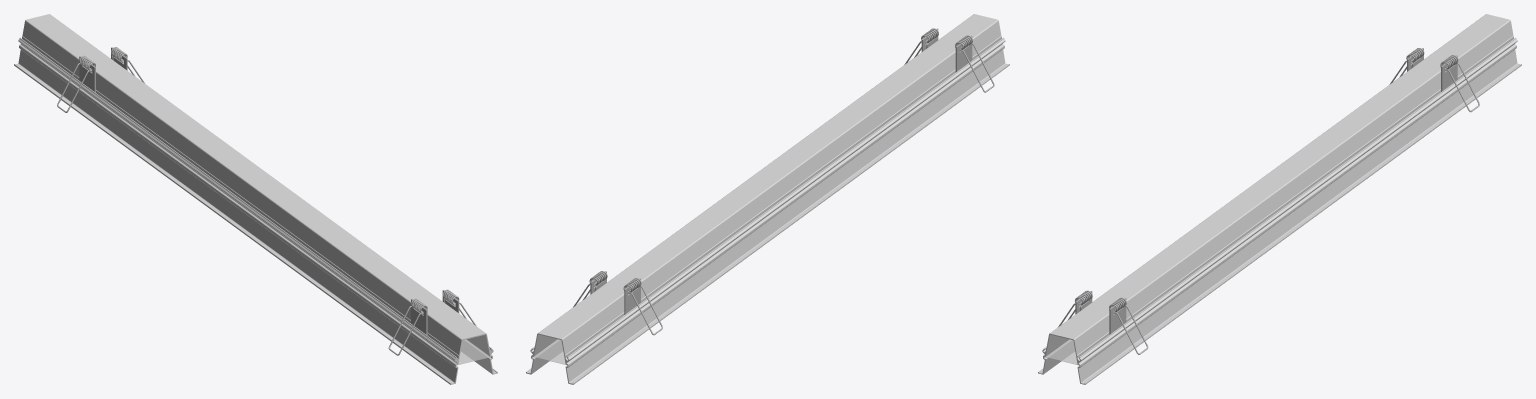
File: Fit30Embutido.glb
The picture shows the model from 3 angles, left to right: view 1: azimuth 30°, elevation 25°; view 2: azimuth 150°, elevation 25°; view 3: azimuth 330°, elevation 25°; orthographic projection.
Visible parts, largest first — view 1: Geom3D (×2); view 2: Geom3D (×2); view 3: Geom3D (×2).
Part boxes in pixels (x1,y1,x2,y2): Geom3D (×2): (14,14,497,384); Geom3D (×2): (526,14,1009,384); Geom3D (×2): (1038,14,1521,384).
Size of what is drawn, in the model's own units: 0.0811 by 0.0483 by 0.7181.
3 materials, 1 textured.
